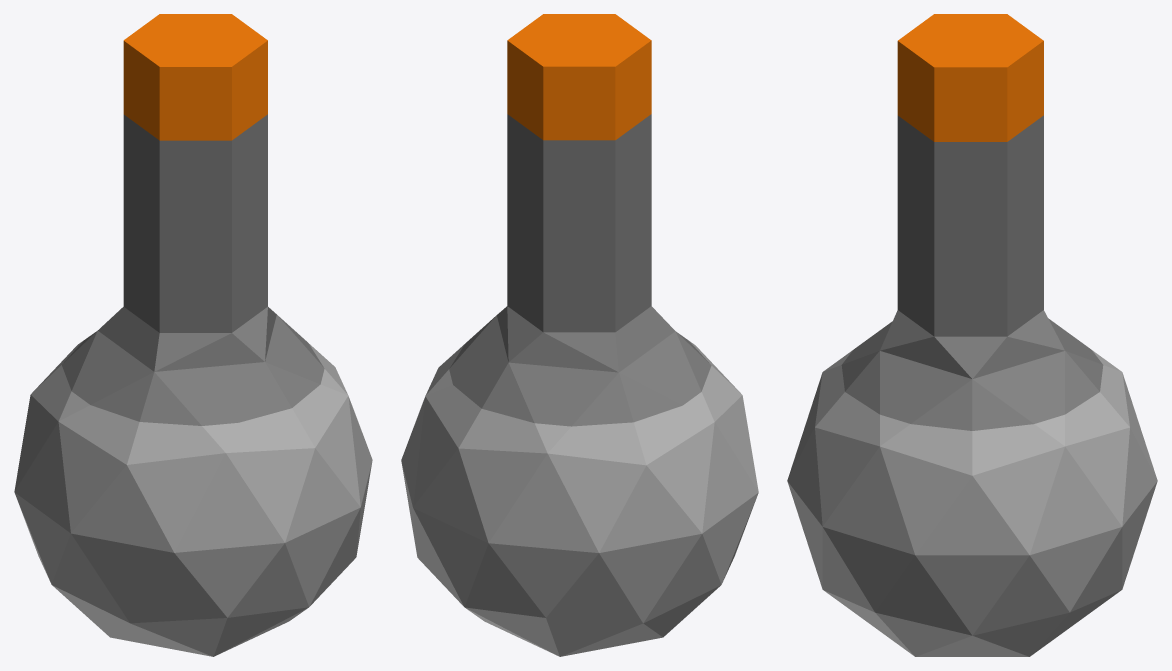
File: potions_340x04.gltf
3 renders of one model, left to right at view 1: azimuth 30°, elevation 25°; view 2: azimuth 150°, elevation 25°; view 3: azimuth 270°, elevation 25°, orthographic.
Visible parts, largest first — view 1: potions_340x04; view 2: potions_340x04; view 3: potions_340x04.
Part boxes in pixels (x1,y1,x2,y2): potions_340x04: [14, 14, 372, 656]; potions_340x04: [401, 14, 758, 656]; potions_340x04: [787, 14, 1157, 656].
Size of the model in its own units: 0.497 by 0.9473 by 0.5225.
Materials: 2 (2 with a texture image).
